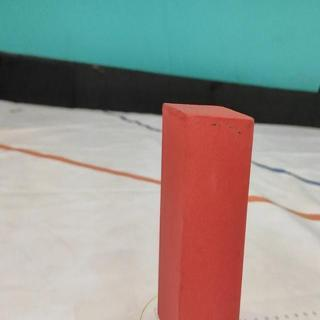redbox: (159, 101, 254, 320)
